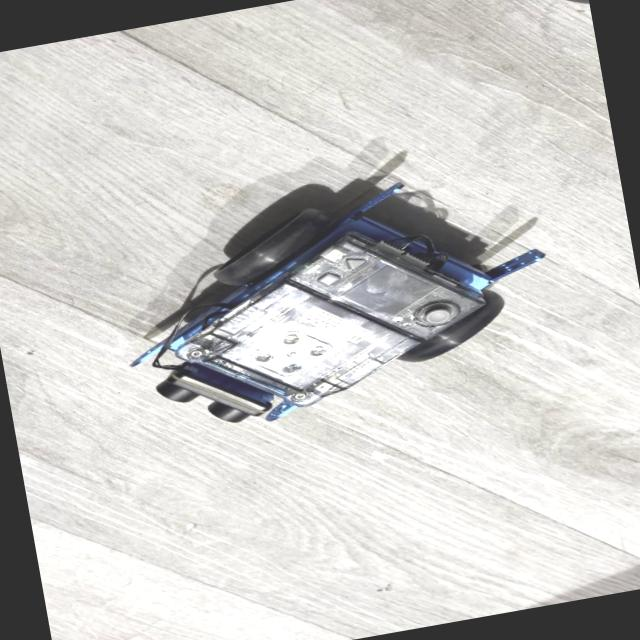mbot-detection: (85, 145, 575, 452)
